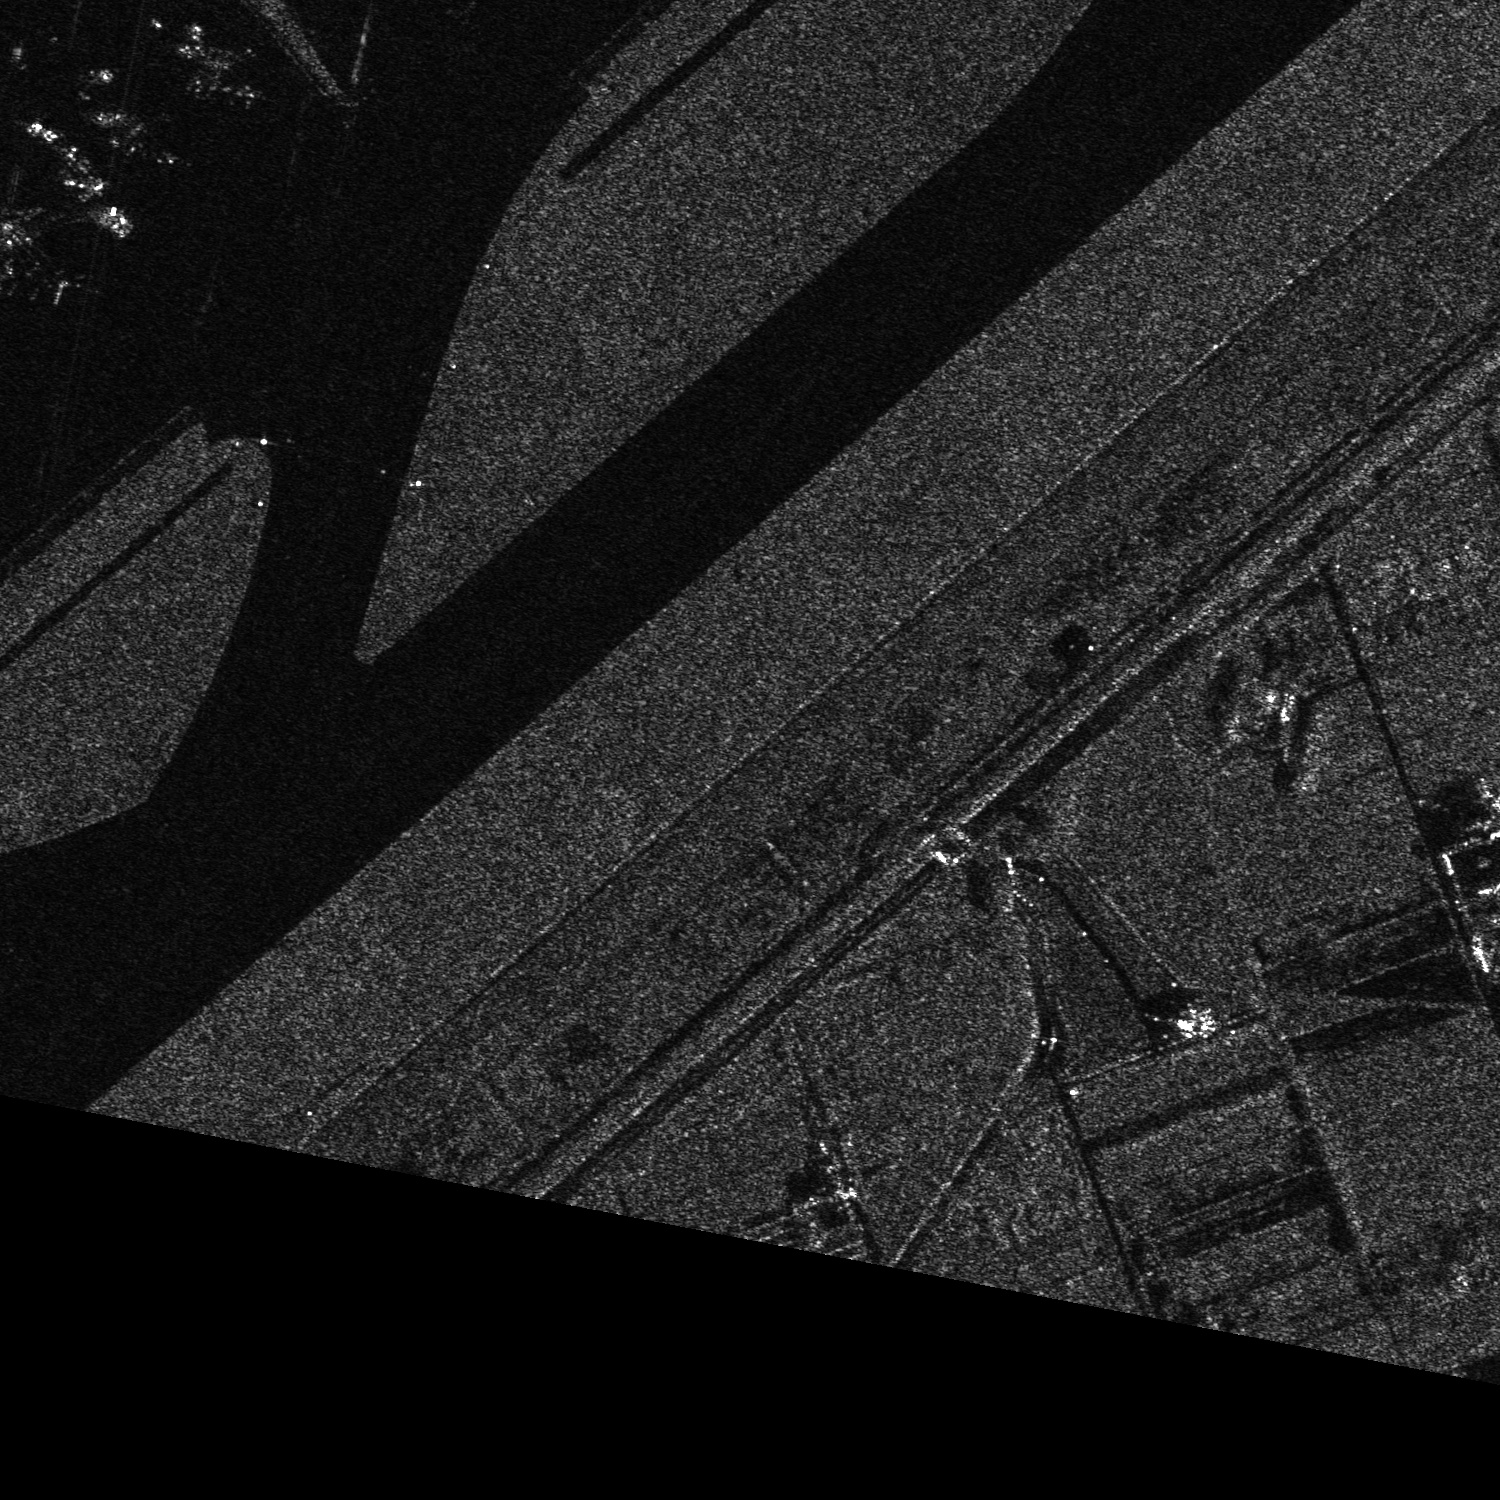Boeing737: (181, 19, 268, 107), (98, 102, 181, 172)
